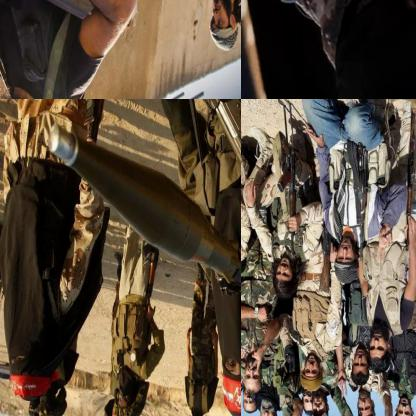rifle: (47, 120, 240, 360), (275, 99, 299, 259), (401, 99, 415, 250), (139, 240, 160, 312), (318, 218, 334, 298)
